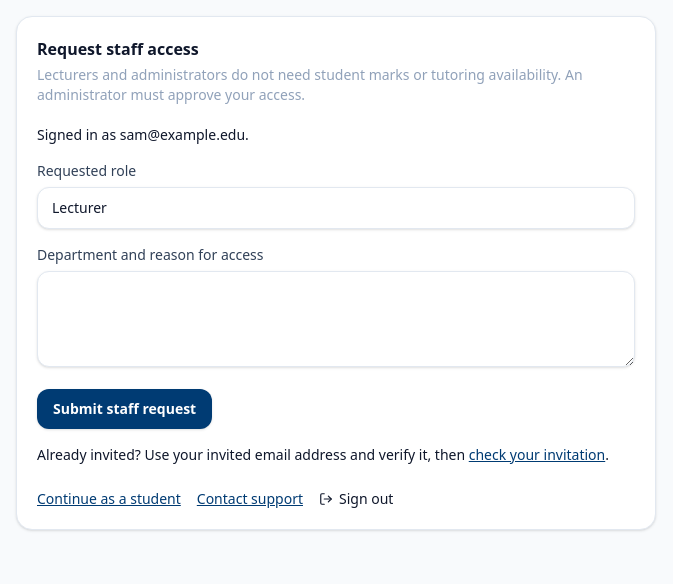
submits a staff request without requiring student academic details
Type "Computer science lecturer" into the text box labelled "Department and reason for access" at (336, 319), box [37,271,635,367]
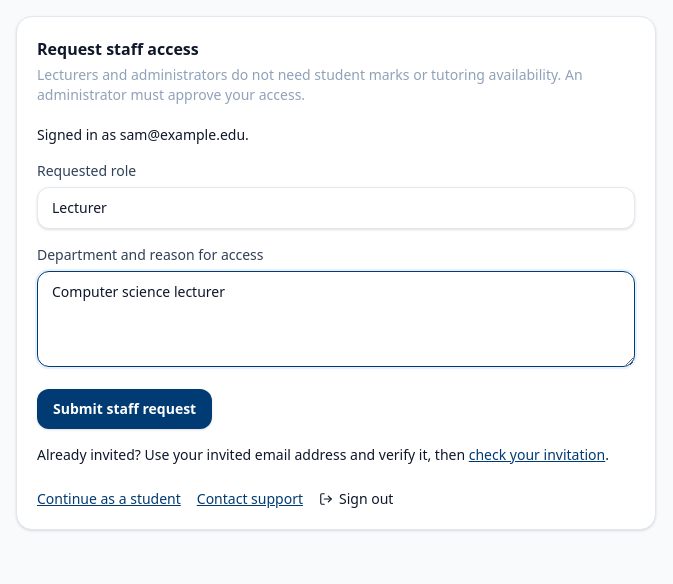
Click the button "Submit staff request" at (125, 409), box [37,389,212,429]
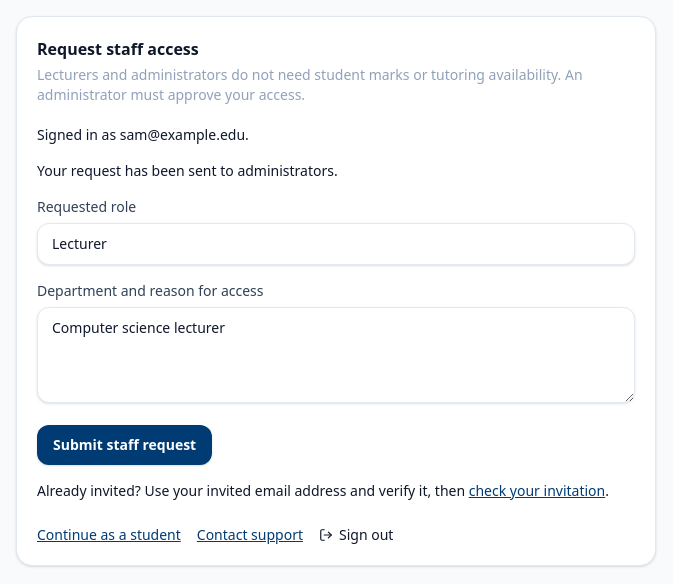
Expected: the text "Your request has been sent to administrators." is shown, [37,161,338,180]
